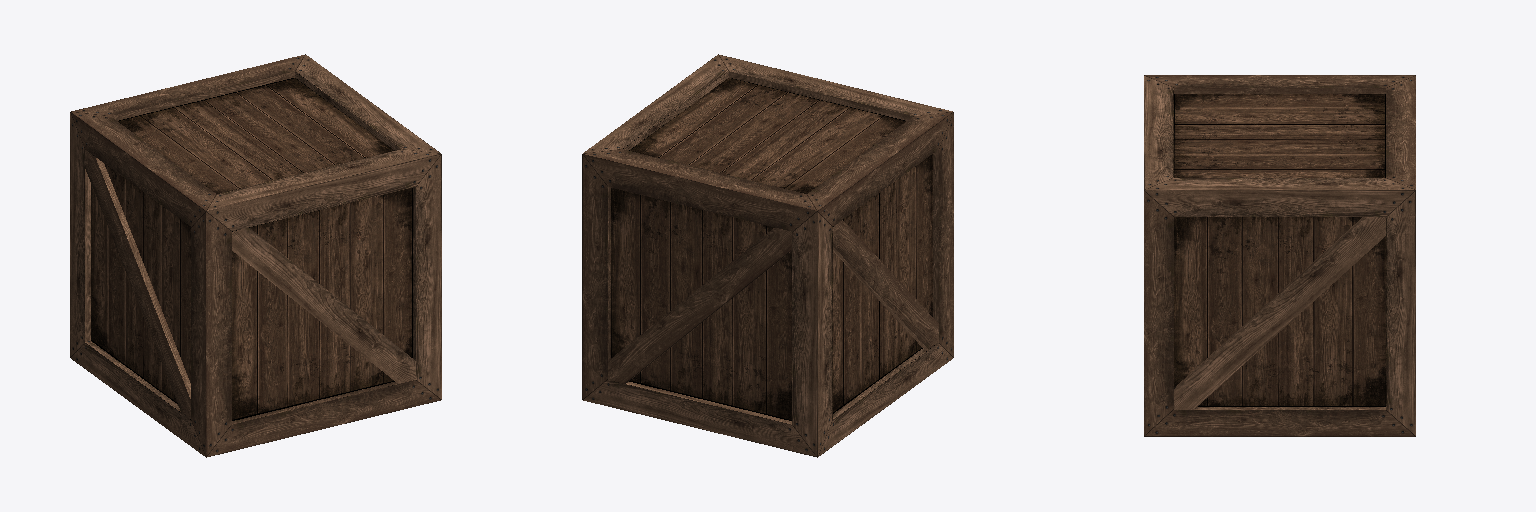
3 views of the same model, side by side, from view 1: azimuth 30°, elevation 25°; view 2: azimuth 150°, elevation 25°; view 3: azimuth 270°, elevation 25° (orthographic).
Parts seen in each view (by area): view 1: poorfolks_crate; view 2: poorfolks_crate; view 3: poorfolks_crate.
Boxes of the visible parts, box(x1,y1,x2,y2) form: poorfolks_crate: box(70, 54, 441, 457); poorfolks_crate: box(582, 54, 953, 457); poorfolks_crate: box(1144, 75, 1415, 436).
Size of the model in its own units: 80 by 80 by 80.
Materials: 1 (1 with a texture image).